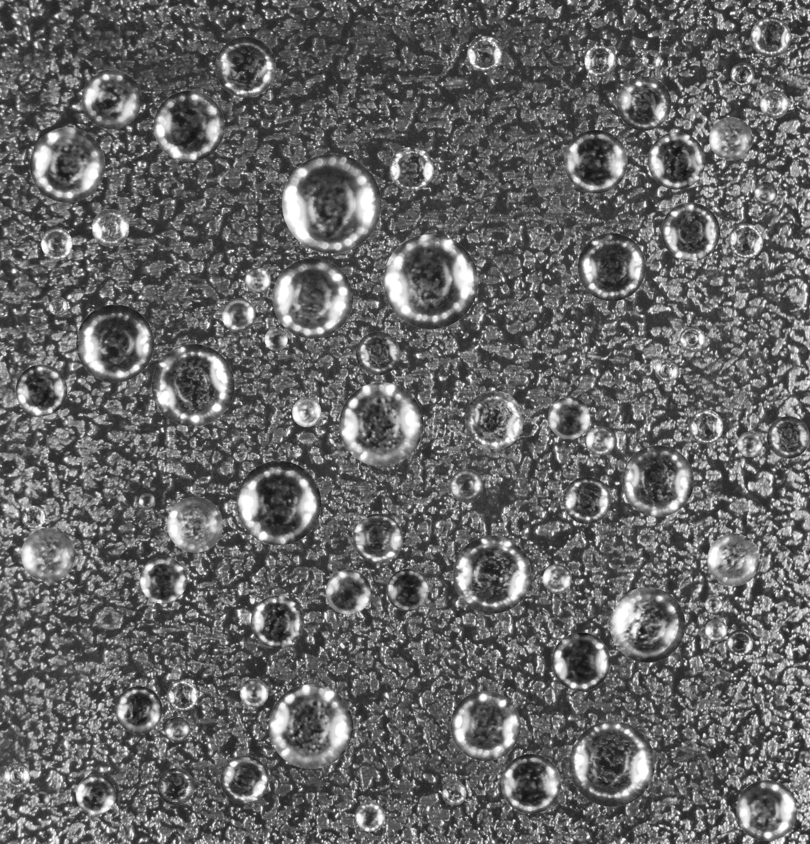Bubble: (282, 154, 381, 253), (383, 234, 478, 329), (236, 460, 321, 545), (569, 721, 654, 806), (268, 684, 353, 768), (339, 382, 423, 466), (151, 344, 234, 426), (272, 258, 353, 338), (453, 535, 531, 613), (76, 304, 153, 382), (29, 127, 105, 202), (610, 587, 685, 662), (622, 445, 693, 516), (153, 90, 224, 161), (450, 691, 520, 761), (577, 233, 645, 301), (564, 129, 627, 193), (215, 36, 276, 97), (736, 780, 797, 841), (81, 69, 141, 129), (551, 632, 610, 691), (501, 754, 560, 813), (661, 202, 720, 261), (465, 390, 523, 449), (648, 132, 705, 189), (167, 496, 222, 552), (21, 527, 75, 581), (617, 76, 671, 130), (707, 533, 760, 586), (250, 595, 303, 648), (15, 364, 67, 416), (353, 513, 402, 563), (220, 755, 268, 804), (563, 476, 610, 524), (115, 686, 162, 733), (139, 556, 186, 603), (325, 569, 370, 614), (389, 146, 433, 190), (356, 331, 399, 375), (709, 117, 752, 160), (548, 396, 590, 439), (767, 416, 809, 458), (386, 569, 428, 611), (750, 16, 791, 57), (75, 774, 115, 814), (91, 209, 129, 246), (157, 768, 194, 805), (467, 35, 502, 71), (728, 223, 763, 258), (221, 298, 255, 332), (689, 410, 723, 443), (449, 469, 483, 502), (584, 45, 616, 77), (41, 228, 72, 259), (167, 680, 197, 711), (292, 397, 321, 427), (355, 802, 385, 831), (239, 678, 268, 707), (586, 426, 615, 455), (542, 564, 571, 593), (760, 89, 788, 118), (726, 629, 753, 656), (4, 763, 30, 789), (679, 326, 705, 352), (245, 267, 270, 293), (737, 431, 762, 457), (165, 717, 190, 742), (442, 781, 466, 805), (655, 358, 678, 382), (730, 63, 754, 86), (21, 505, 44, 528), (264, 327, 287, 350), (754, 181, 777, 204), (705, 619, 727, 641), (642, 49, 661, 68), (49, 297, 67, 315), (705, 595, 722, 613), (138, 493, 155, 509), (34, 791, 49, 807), (644, 357, 652, 365)
